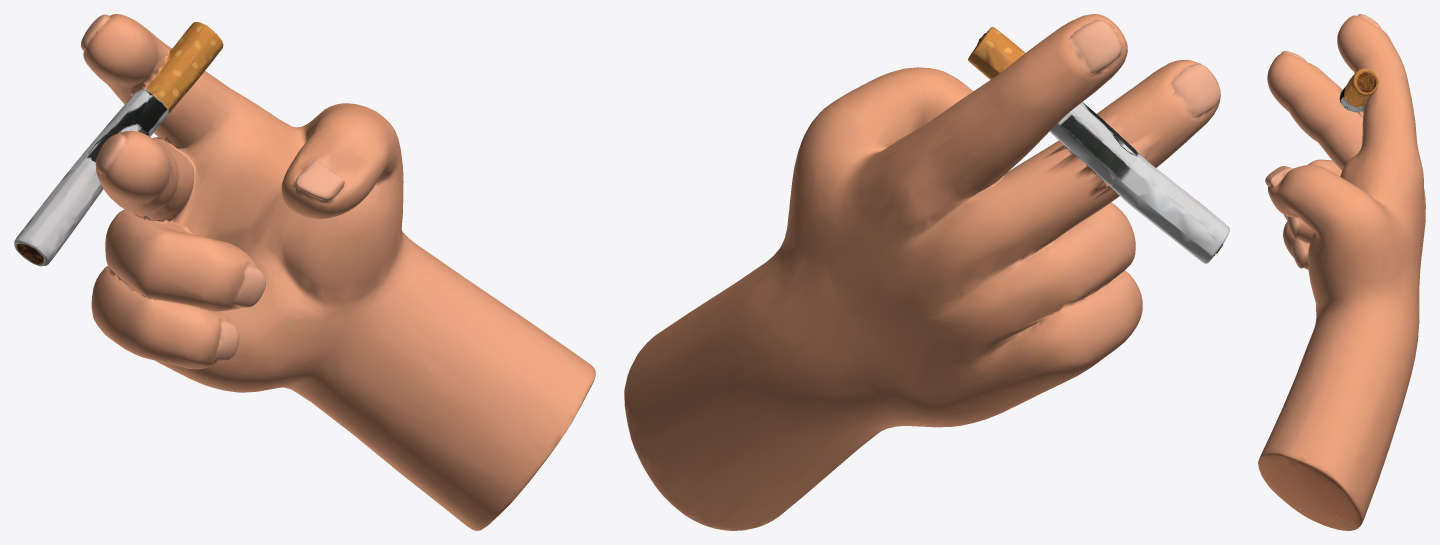
File: cig.glb
3 views of the same model, side by side, from view 1: azimuth 30°, elevation 25°; view 2: azimuth 150°, elevation 25°; view 3: azimuth 270°, elevation 25° (orthographic). The views are drawn at different scales.
Size of the model in its own units: 1.9 by 1.86 by 0.7167.
Materials: 1 (1 with a texture image).
